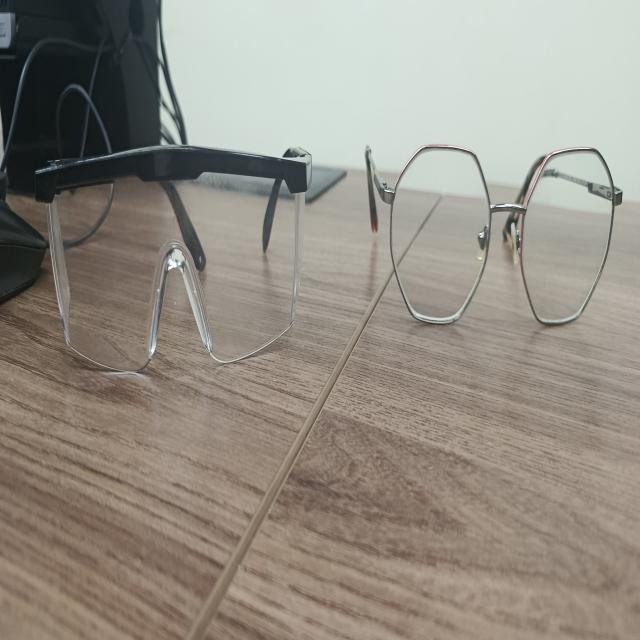oculos-epi: (35, 145, 312, 372), (160, 182, 206, 271), (263, 180, 282, 251)
sem_oculos: (365, 144, 623, 326)
